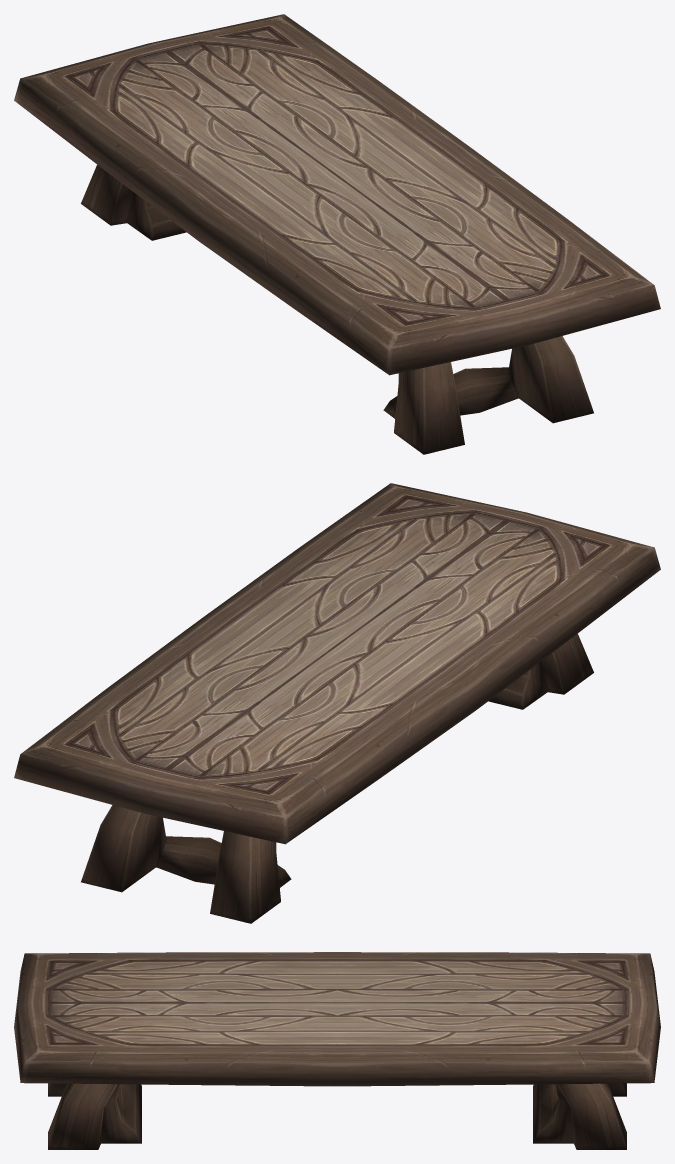
3 renders of one model, top to bottom at view 1: azimuth 30°, elevation 25°; view 2: azimuth 150°, elevation 25°; view 3: azimuth 270°, elevation 25°, orthographic. The views are drawn at different scales.
Bounding box in the file's own units: 2.66 × 1.21 × 6.36.
1 material, 1 textured.
